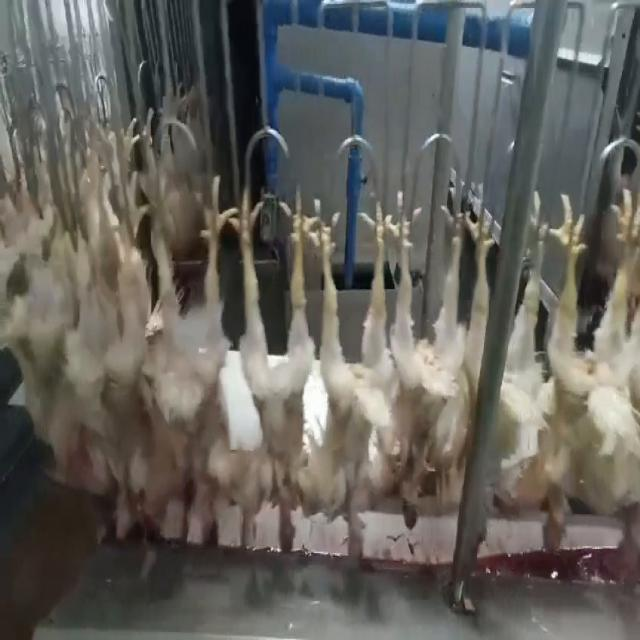chicken: (381, 191, 493, 530), (538, 179, 639, 548), (293, 194, 391, 525), (230, 180, 310, 554), (148, 173, 227, 540), (492, 201, 560, 512), (87, 194, 146, 539)
